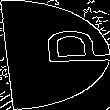P_W: (6, 35, 104, 75)
